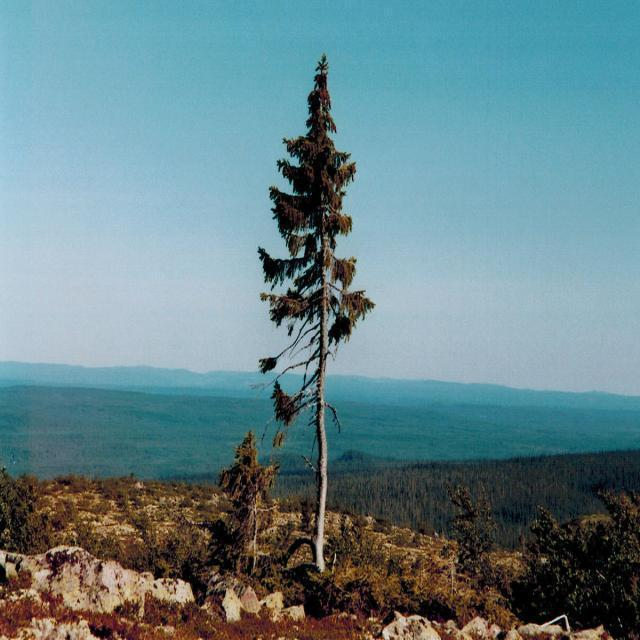tree: (249, 34, 387, 546), (224, 432, 262, 493)
